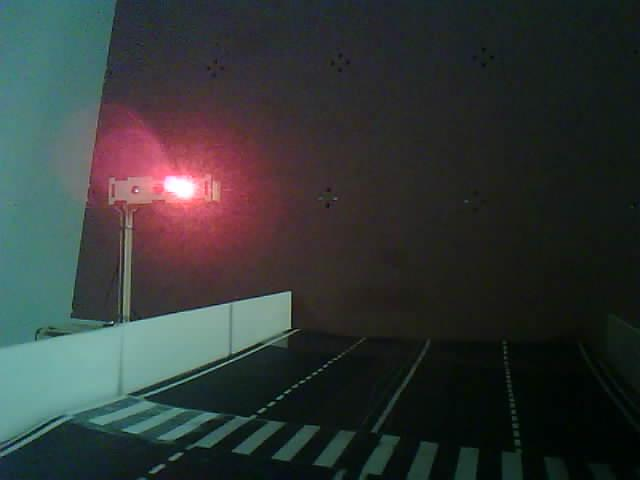crosswalk: (52, 377, 640, 480)
red: (64, 124, 228, 337)
